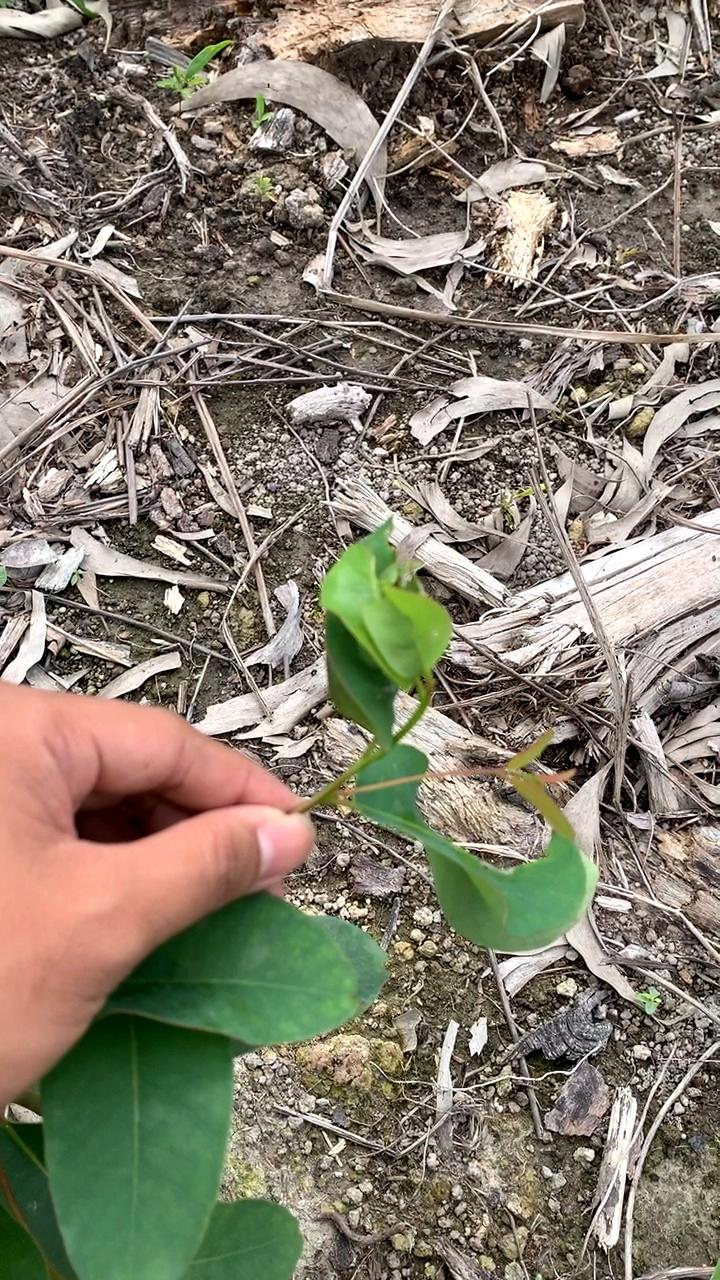Leaf Roller - Leaf: (316, 528, 451, 781)
